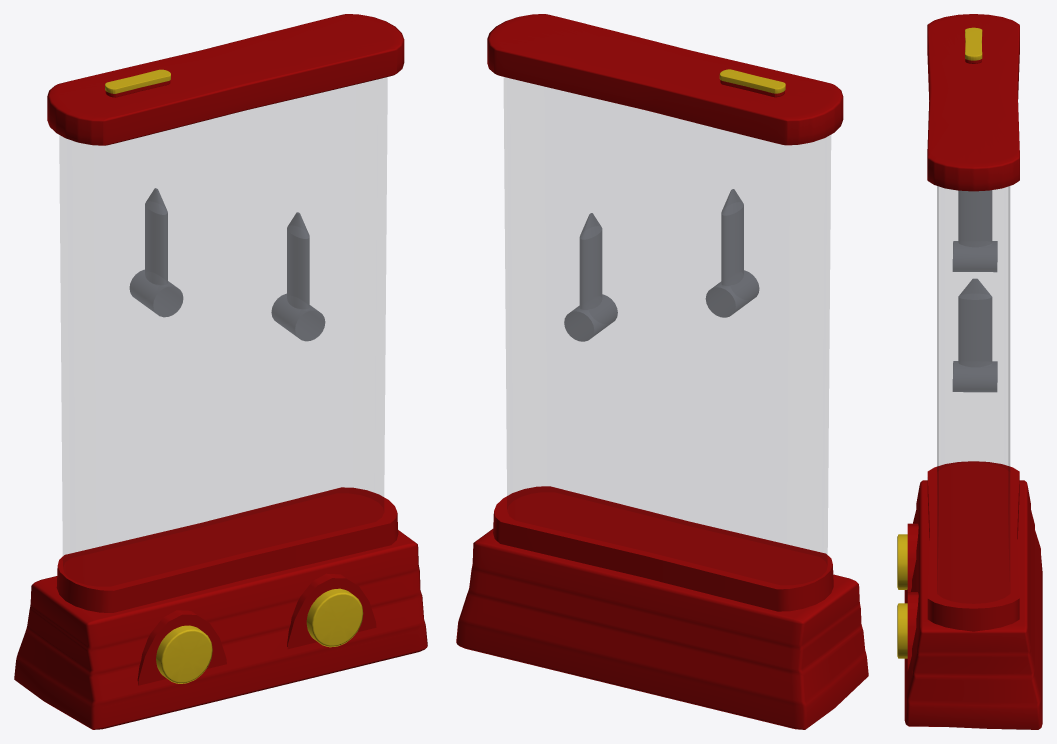
File: resizedToyMeshReduced.dae
The picture shows the model from 3 angles, left to right: view 1: azimuth 30°, elevation 25°; view 2: azimuth 150°, elevation 25°; view 3: azimuth 270°, elevation 25°; orthographic projection. The views are drawn at different scales.
Parts seen in each view (by area): view 1: gameToy; view 2: gameToy; view 3: gameToy.
Boxes of the visible parts, box(x1,y1,x2,y2) form: gameToy: box(14, 14, 427, 729); gameToy: box(456, 14, 868, 729); gameToy: box(897, 14, 1042, 729).
Size of the model in its own units: 2.48 by 4.09 by 0.945.
